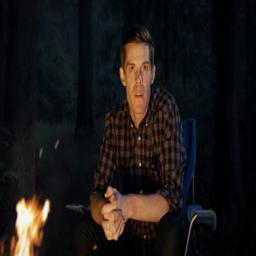fire: (12, 198, 51, 256)
